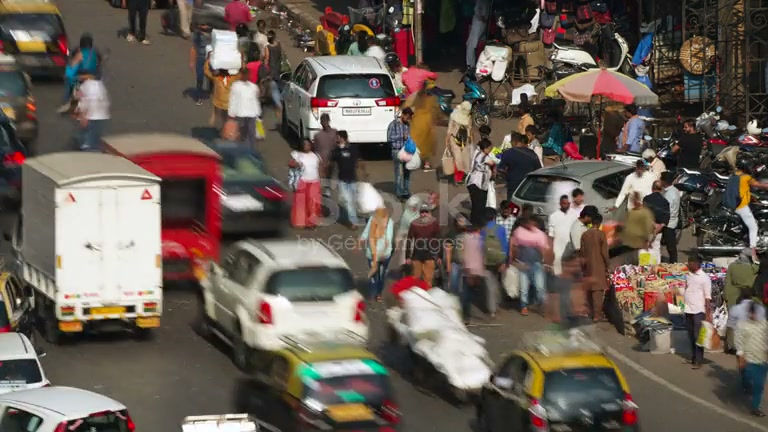car: (196, 237, 371, 373), (99, 131, 227, 287), (470, 345, 641, 429), (385, 285, 496, 405), (278, 54, 402, 155), (508, 157, 642, 228), (201, 138, 292, 240), (0, 384, 136, 431), (0, 2, 71, 81), (0, 330, 52, 395), (0, 67, 39, 152), (0, 109, 27, 212)
motorcycle: (232, 329, 405, 429)
pedestrian: (508, 209, 553, 317), (733, 300, 768, 418), (578, 206, 611, 325), (723, 157, 762, 256), (680, 252, 713, 368), (71, 69, 112, 151), (496, 132, 543, 203), (287, 138, 323, 229), (226, 65, 263, 152), (405, 203, 441, 289), (465, 138, 499, 229), (614, 191, 656, 264), (548, 193, 578, 276), (614, 158, 658, 209), (124, 1, 152, 45)
truck: (4, 150, 165, 345)
